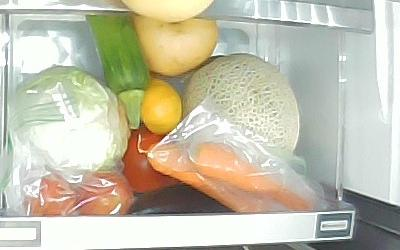cabbage: (9, 65, 130, 176)
carrot_vinyl: (191, 141, 311, 210), (147, 145, 265, 211)
melon: (183, 53, 300, 159)
pear: (132, 16, 219, 75)
prune_vinyl: (76, 173, 134, 215), (25, 175, 78, 215)
tangerine: (142, 78, 183, 134)
zucchini: (87, 15, 150, 130)
